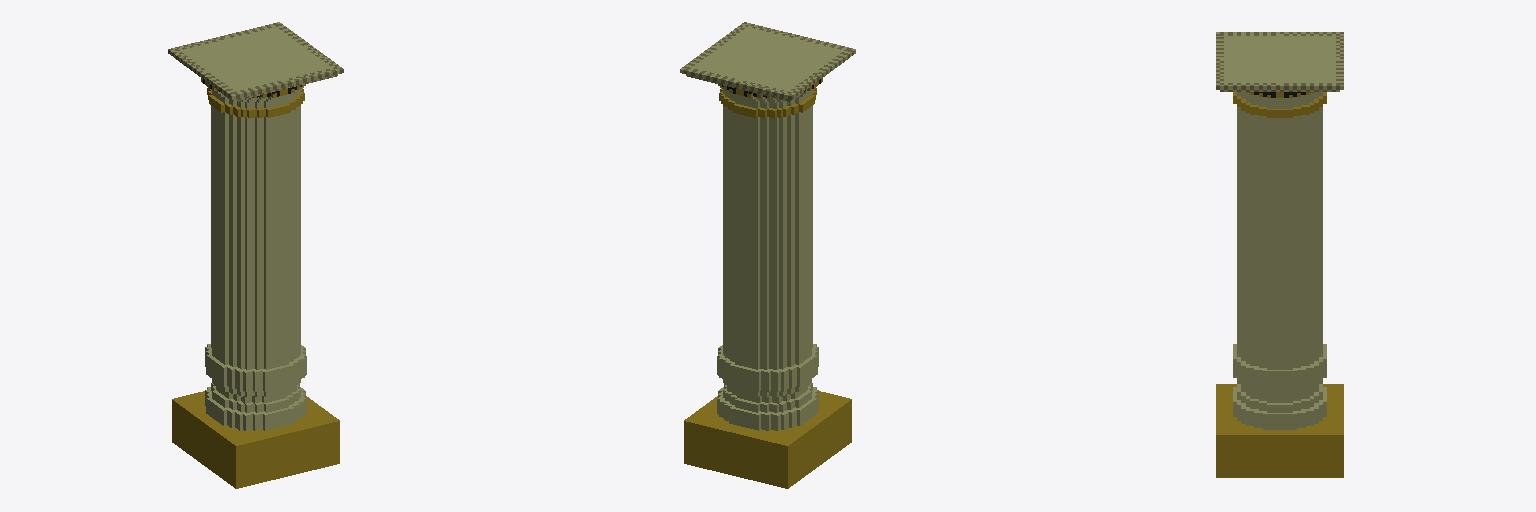
The picture shows the model from 3 angles: view 1: azimuth 30°, elevation 25°; view 2: azimuth 150°, elevation 25°; view 3: azimuth 270°, elevation 25°; orthographic projection.
Parts seen in each view (by area): view 1: Model; view 2: Model; view 3: Model.
Part boxes in pixels (left/top/right/bottom): Model: left=168, top=22, right=343, bottom=488; Model: left=680, top=22, right=855, bottom=488; Model: left=1216, top=32, right=1343, bottom=477.
Bounding box in the file's own units: 9.51 × 32 × 9.51.
1 materials, 1 textured.